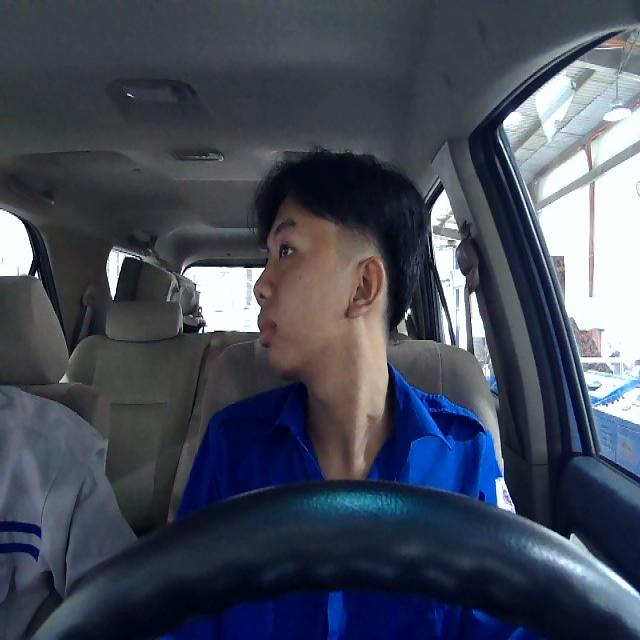seeing_left: (250, 188, 389, 379)
